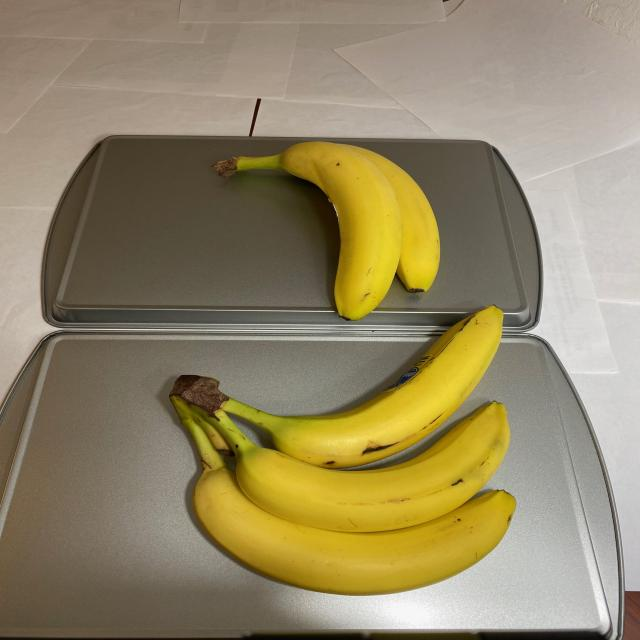banana: (151, 303, 518, 603), (212, 141, 438, 322)
